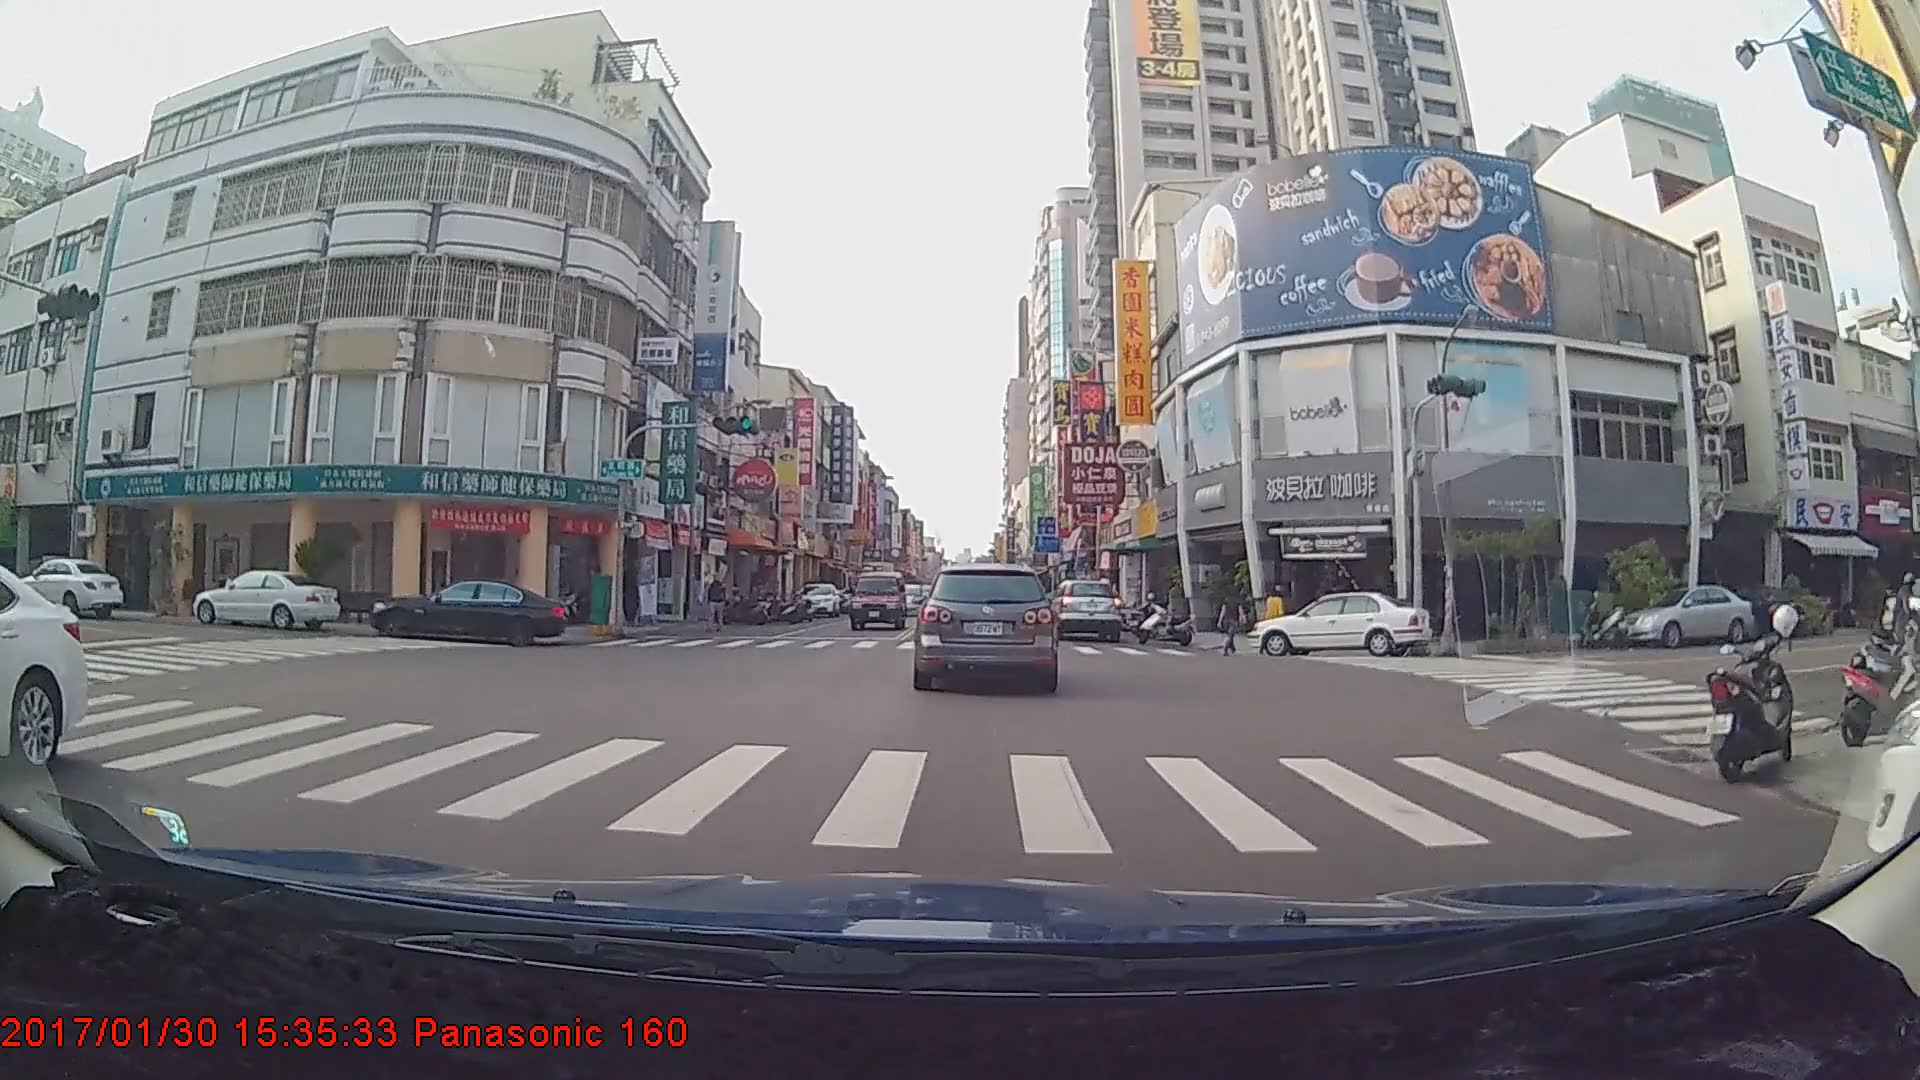pedestrian: (1218, 587, 1248, 659), (1262, 586, 1288, 656), (705, 573, 728, 636)
vehicle: (1, 538, 92, 799), (916, 561, 1056, 690), (365, 578, 566, 646), (1247, 592, 1430, 658), (194, 568, 341, 632), (5, 550, 128, 624), (1617, 583, 1752, 649), (1045, 579, 1120, 644), (846, 568, 906, 629), (793, 580, 840, 618)
